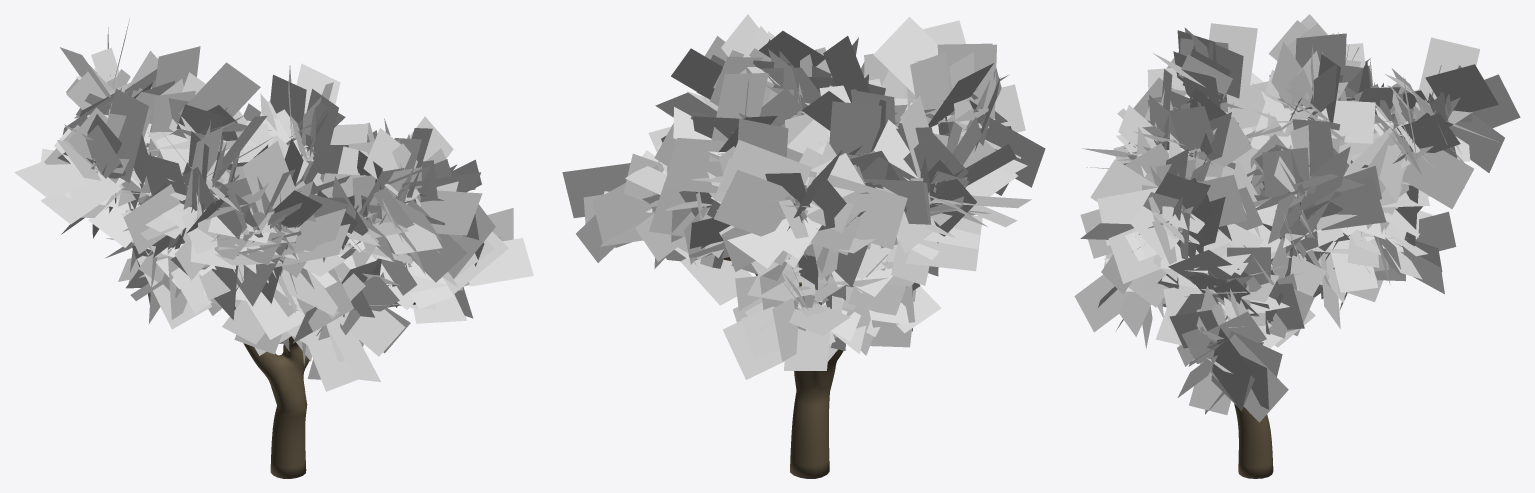
Rendered from Chene.fbx.
3 views of the same model, side by side, from view 1: azimuth 30°, elevation 25°; view 2: azimuth 150°, elevation 25°; view 3: azimuth 270°, elevation 25° (orthographic). The views are drawn at different scales.
Visible parts, largest first — view 1: Chene, Leaf Chene; view 2: Chene, Leaf Chene; view 3: Chene, Leaf Chene.
Part boxes in pixels (x1,y1,x2,y2): Chene: [14, 19, 533, 391]; Leaf Chene: [96, 171, 415, 478]; Chene: [562, 14, 1045, 379]; Leaf Chene: [723, 203, 843, 478]; Chene: [1074, 14, 1520, 422]; Leaf Chene: [1191, 149, 1412, 478].
Bounding box in the file's own units: 221 × 192 × 190.
